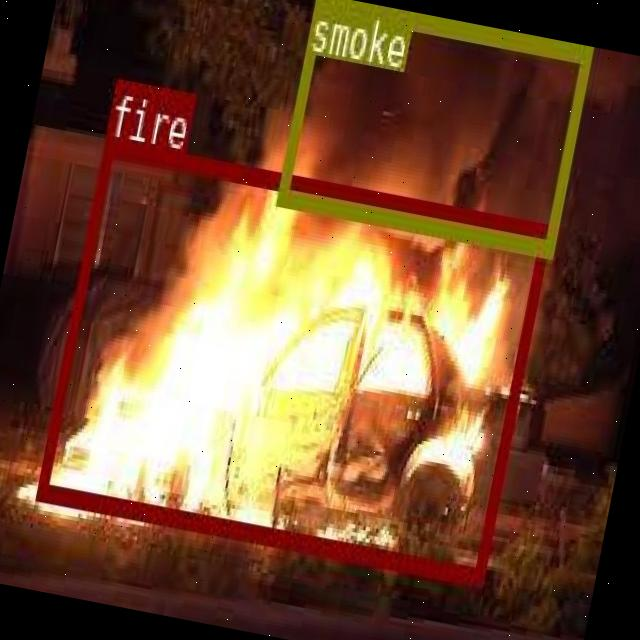fire: (34, 138, 550, 582)
smoke: (275, 0, 591, 256)
